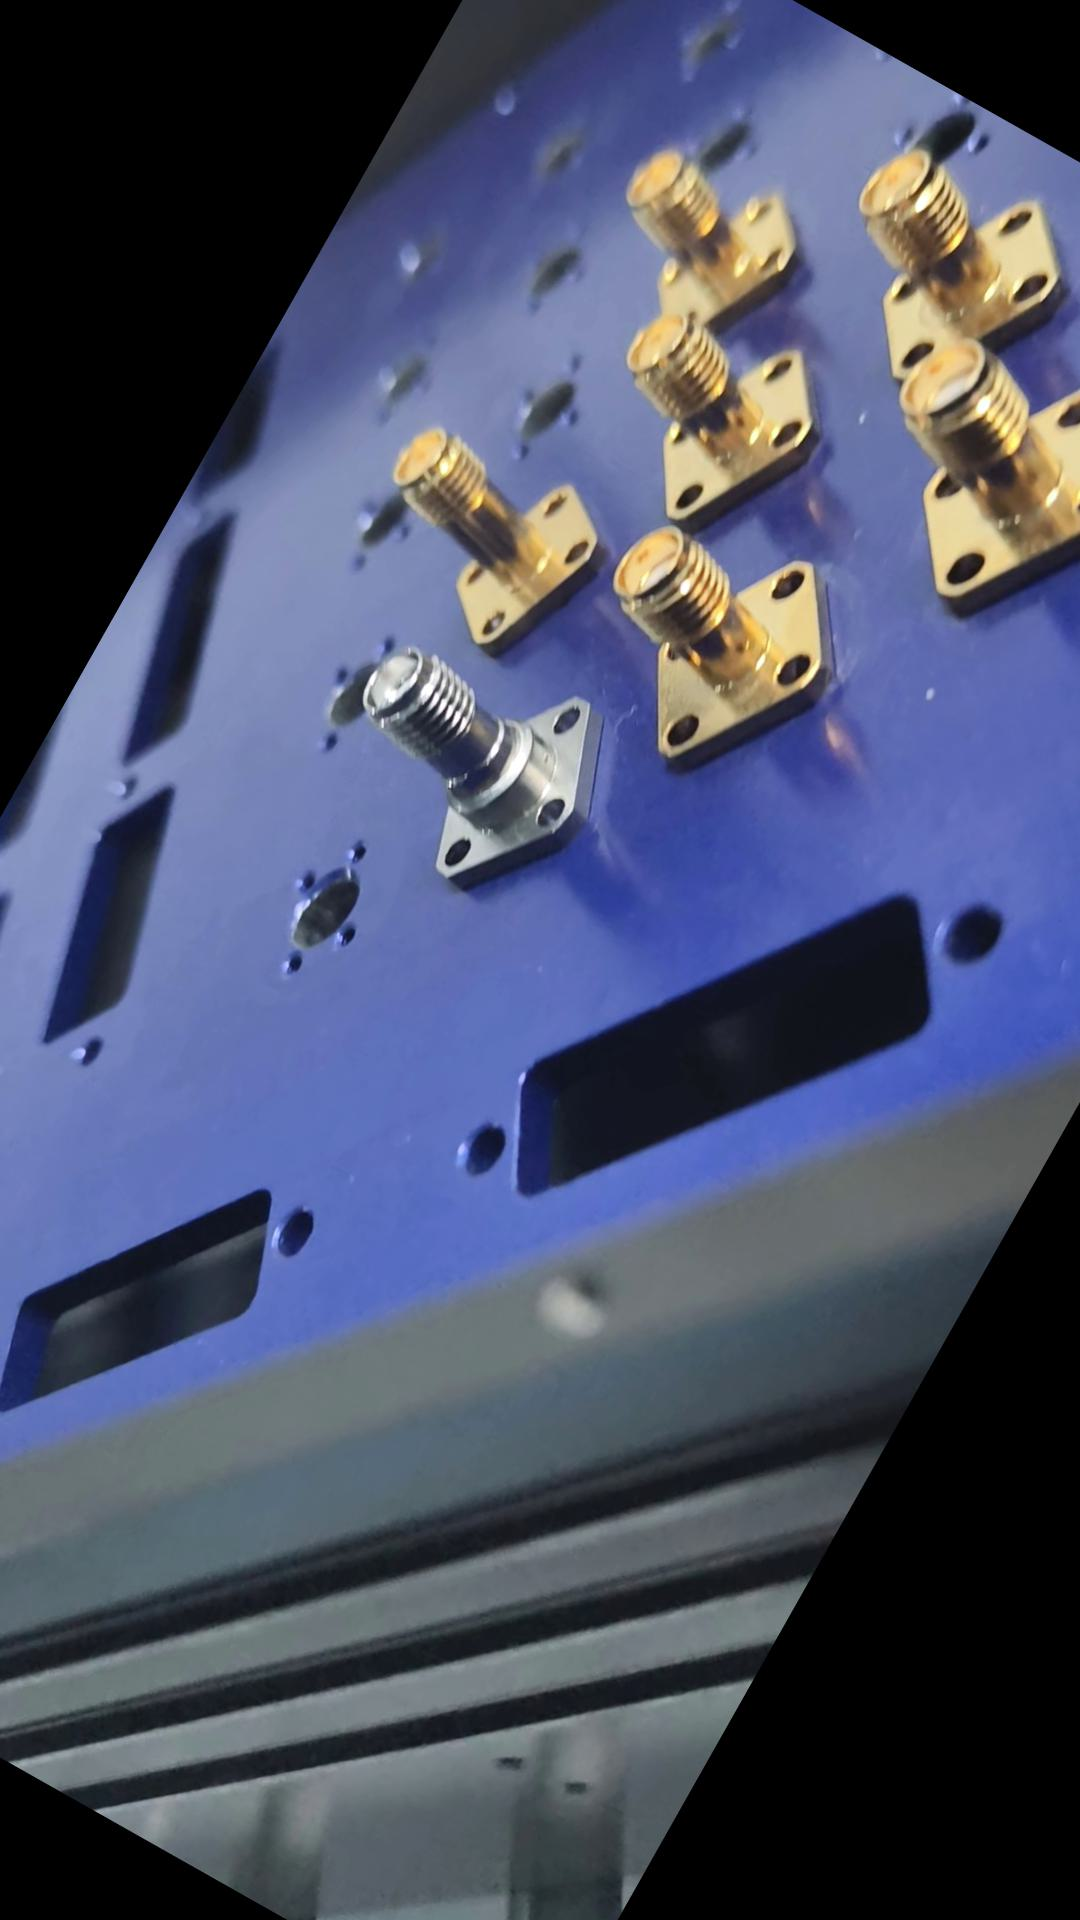SMA: (545, 460, 881, 808), (299, 585, 644, 924), (554, 255, 856, 568), (816, 298, 1079, 655), (327, 392, 628, 682)
